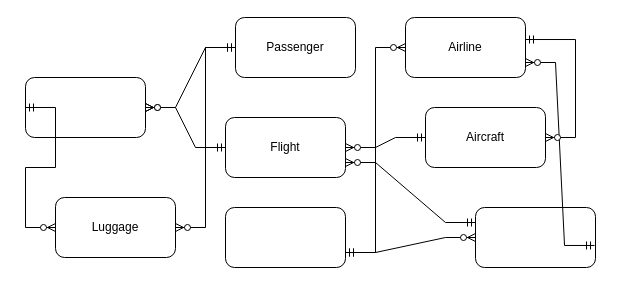
Image size: 622x285. Some labels were removed from this diagram. The centre of each missing label's shape, as x and y in pixels:
Airport: the point at 535,237
Country: the point at 285,237
Ticket: the point at 85,107
